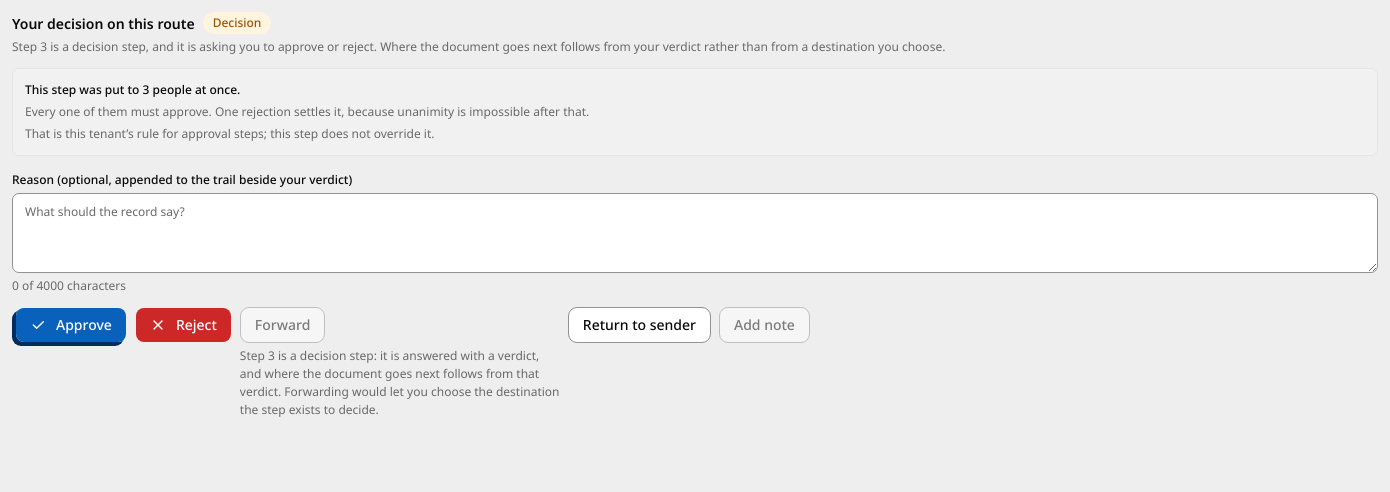
Test: three approvers under a quorum of `all` › and only the THIRD is told the document is approved and has moved
The image size is (1390, 492).
Click the button "Approve".
click(71, 325)  # box [15,307,127,343]
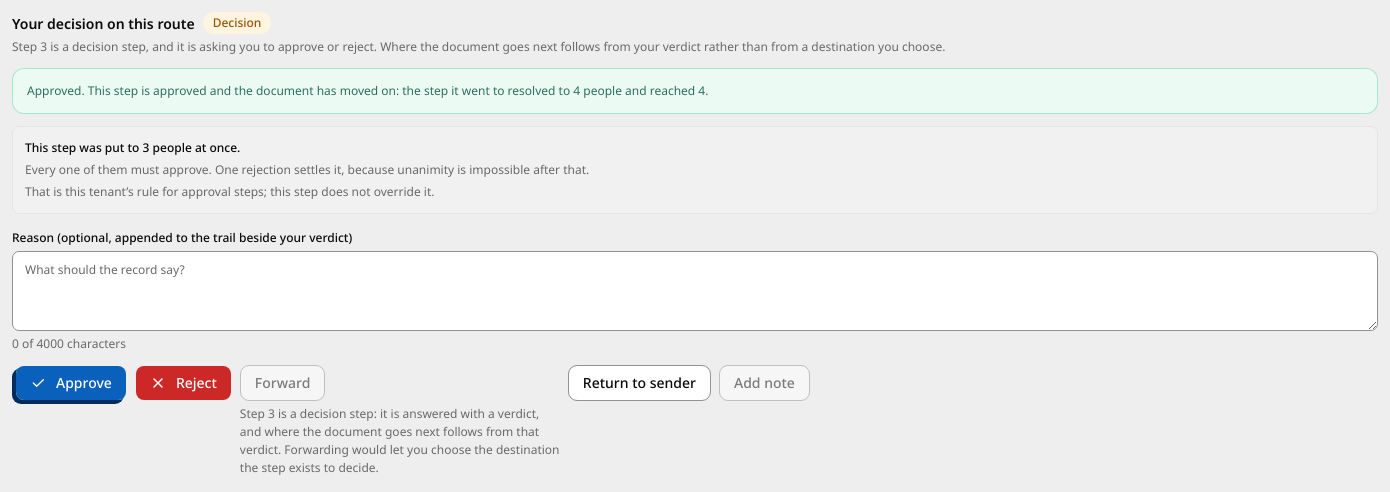
Now the message is shown, box [12,68,1378,114]
Now the message shows "This step is approved", box [27,82,708,99]
Now the message shows "document has moved on", box [27,82,708,99]
